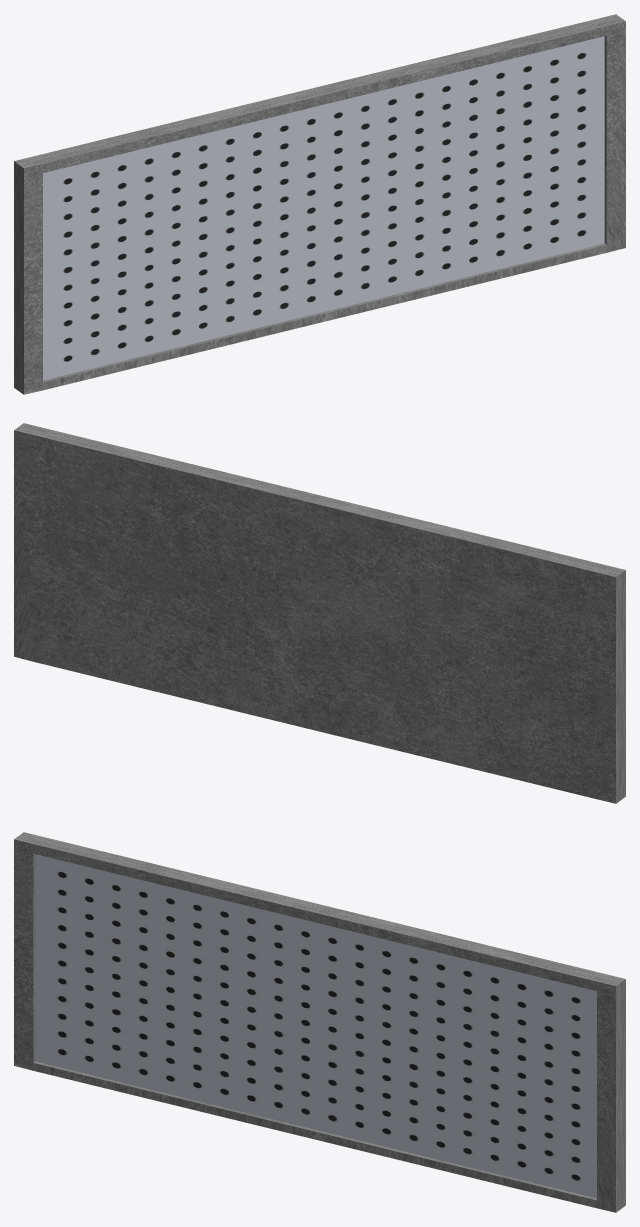
Rendered from Gunwall.fbx.
3 views of the same model, one above another, from view 1: azimuth 30°, elevation 25°; view 2: azimuth 150°, elevation 25°; view 3: azimuth 330°, elevation 25° (orthographic).
Visible parts, largest first — view 1: Cube; view 2: Cube; view 3: Cube.
Boxes of the visible parts, box(x1,y1,x2,y2) form: Cube: box(14, 14, 625, 394); Cube: box(14, 423, 625, 803); Cube: box(14, 832, 625, 1212).
Size of the model in its own units: 347 by 125 by 9.82.
